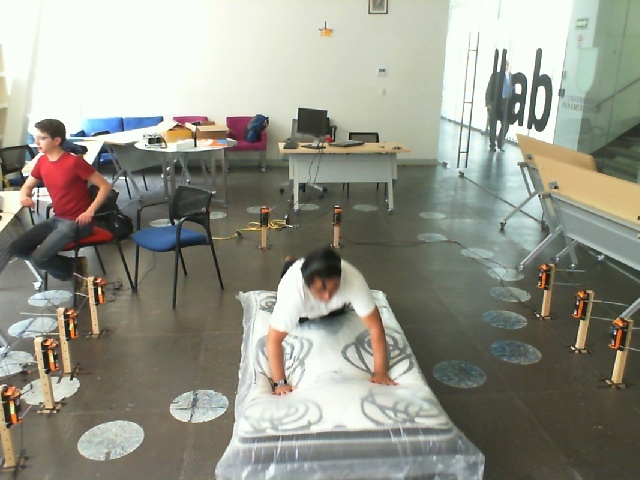fall: (260, 238, 397, 403)
not_fallen: (0, 110, 113, 304)
